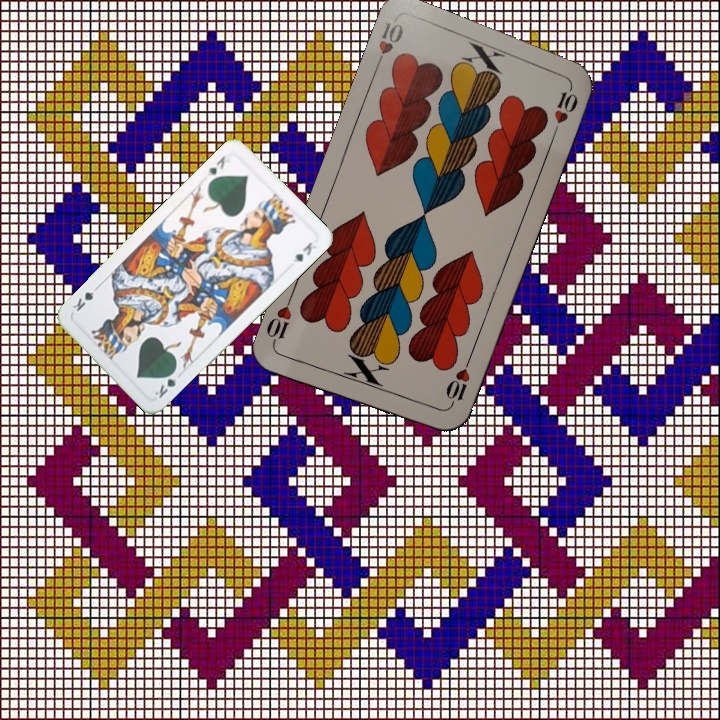GK: (150, 365, 180, 401), (203, 152, 232, 180)
H10: (370, 16, 406, 74), (441, 355, 473, 412)
